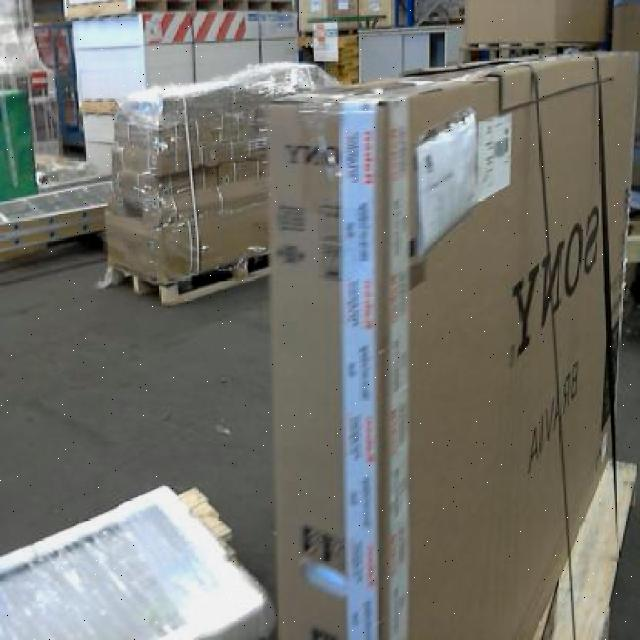pallet: (96, 242, 287, 315), (452, 39, 587, 65)
